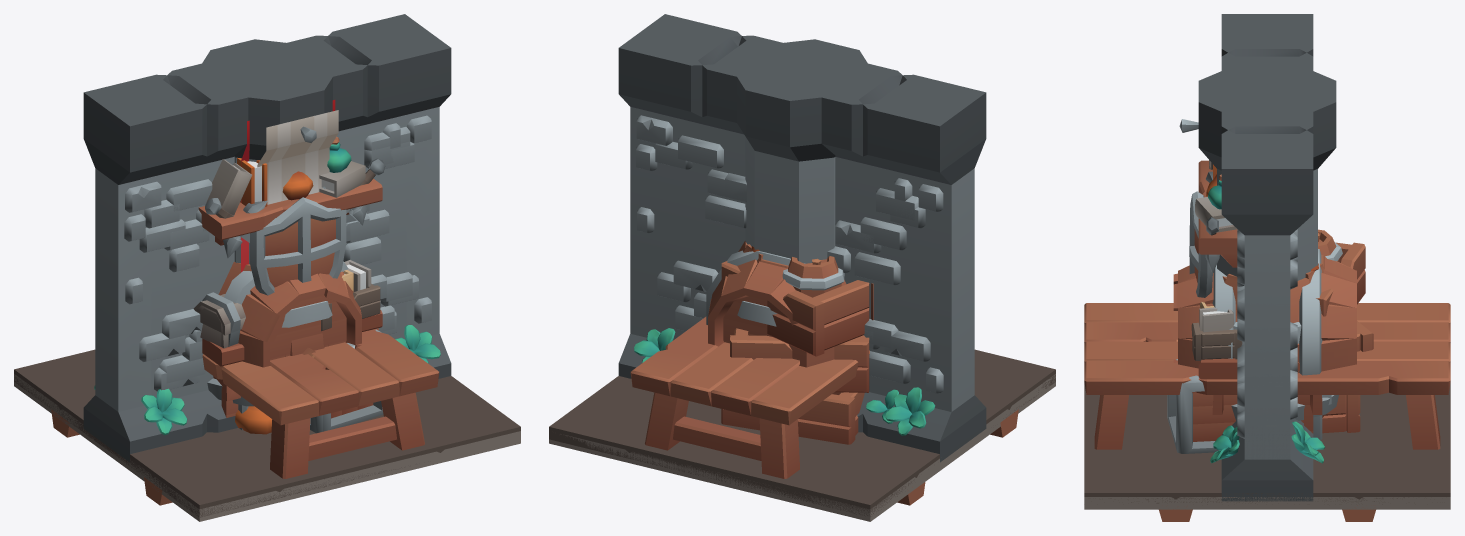
The model's file is dungeon.glb.
The picture shows the model from 3 angles, left to right: view 1: azimuth 30°, elevation 25°; view 2: azimuth 150°, elevation 25°; view 3: azimuth 270°, elevation 25°; orthographic projection.
Parts seen in each view (by area): view 1: wall_arched, ceiling_tile, table_long, pillar_decorated, wall_shelves, wall, wall_cracked, keg, floor_tile_large, barrel_large, crates_stacked; view 2: wall_shelves, wall_arched, ceiling_tile, table_long, pillar_decorated, crates_stacked, wall_cracked, wall, keg, floor_tile_large, barrel_large; view 3: table_long, ceiling_tile, wall_arched, wall, wall_shelves, wall_cracked, keg, pillar_decorated, crates_stacked, floor_tile_large, barrel_large, chest_lid (+1 smaller).
Boxes of the visible parts, x1=… form: wall_arched: x1=83, y1=14, x2=451, y2=462; ceiling_tile: x1=14, y1=349, x2=520, y2=517; table_long: x1=202, y1=328, x2=439, y2=478; pillar_decorated: x1=202, y1=39, x2=385, y2=295; wall_shelves: x1=117, y1=76, x2=418, y2=391; wall: x1=105, y1=65, x2=450, y2=441; wall_cracked: x1=94, y1=142, x2=440, y2=435; keg: x1=224, y1=261, x2=361, y2=367; floor_tile_large: x1=14, y1=374, x2=520, y2=521; barrel_large: x1=207, y1=262, x2=332, y2=406; crates_stacked: x1=235, y1=329, x2=383, y2=434; wall_shelves: x1=618, y1=36, x2=986, y2=453; wall_arched: x1=619, y1=14, x2=986, y2=462; ceiling_tile: x1=549, y1=349, x2=1055, y2=516; table_long: x1=630, y1=316, x2=869, y2=478; pillar_decorated: x1=737, y1=39, x2=867, y2=263; crates_stacked: x1=721, y1=246, x2=873, y2=444; wall_cracked: x1=634, y1=142, x2=935, y2=435; wall: x1=673, y1=37, x2=984, y2=348; keg: x1=706, y1=250, x2=834, y2=367; floor_tile_large: x1=549, y1=374, x2=1055, y2=521; barrel_large: x1=737, y1=241, x2=846, y2=335; table_long: x1=1084, y1=303, x2=1450, y2=449; ceiling_tile: x1=1084, y1=383, x2=1450, y2=521; wall_arched: x1=1221, y1=14, x2=1313, y2=479; wall: x1=1221, y1=113, x2=1313, y2=501; wall_shelves: x1=1191, y1=49, x2=1313, y2=501; wall_cracked: x1=1210, y1=235, x2=1324, y2=463; keg: x1=1173, y1=249, x2=1356, y2=375; pillar_decorated: x1=1179, y1=71, x2=1336, y2=297; crates_stacked: x1=1167, y1=229, x2=1373, y2=453; floor_tile_large: x1=1084, y1=497, x2=1450, y2=509; barrel_large: x1=1222, y1=255, x2=1338, y2=420; chest_lid: x1=1212, y1=362, x2=1331, y2=414.
Size of the model in its own units: 4 by 4.38 by 4.
1 material, 1 textured.
